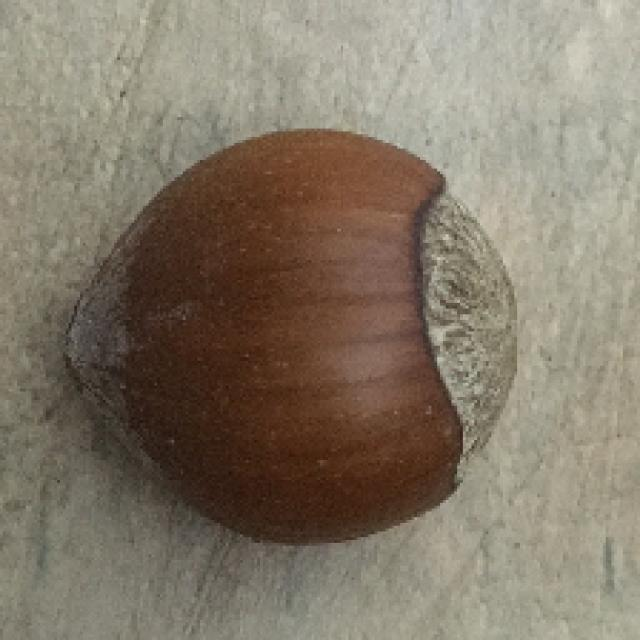qualityHazelnut: (58, 114, 524, 549)
